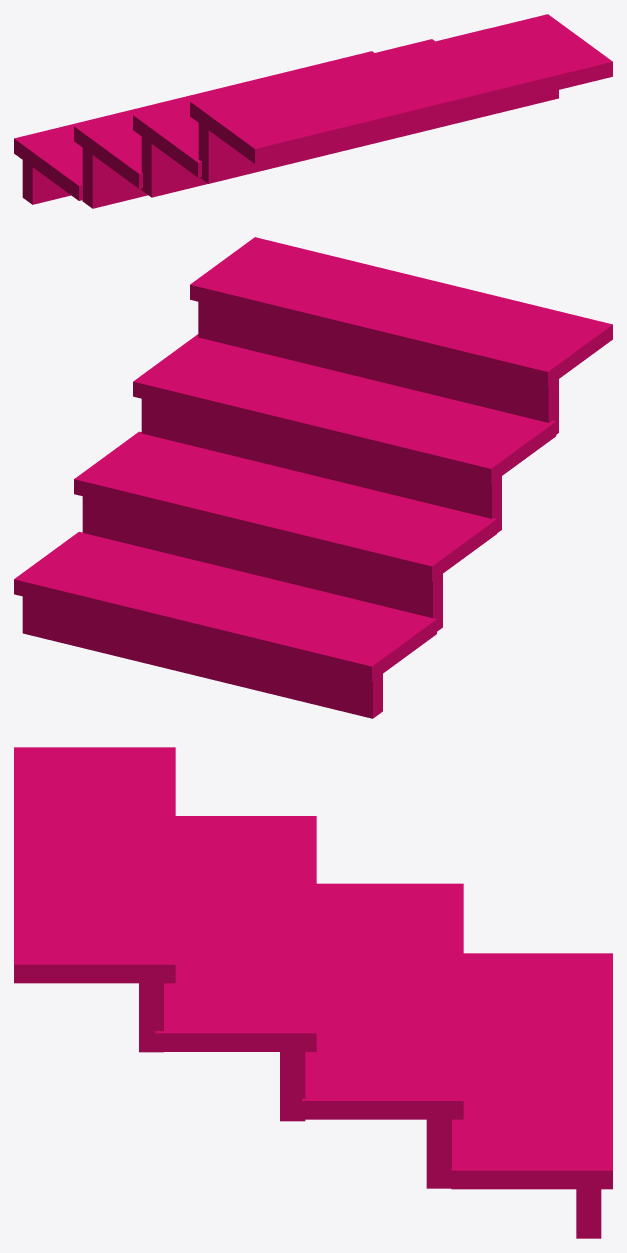
File: Modular_Cabin_01_Stairs.fbx
3 views of the same model, one above another, from view 1: azimuth 30°, elevation 25°; view 2: azimuth 150°, elevation 25°; view 3: azimuth 270°, elevation 25° (orthographic). The views are drawn at different scales.
Visible parts, largest first — view 1: Modular_Cabin_01_Stairs; view 2: Modular_Cabin_01_Stairs; view 3: Modular_Cabin_01_Stairs.
Boxes of the visible parts, box(x1,y1,x2,y2) form: Modular_Cabin_01_Stairs: box(14, 14, 612, 208); Modular_Cabin_01_Stairs: box(14, 237, 612, 718); Modular_Cabin_01_Stairs: box(14, 747, 612, 1238).
Size of the model in its own units: 113 by 67.05 by 132.
